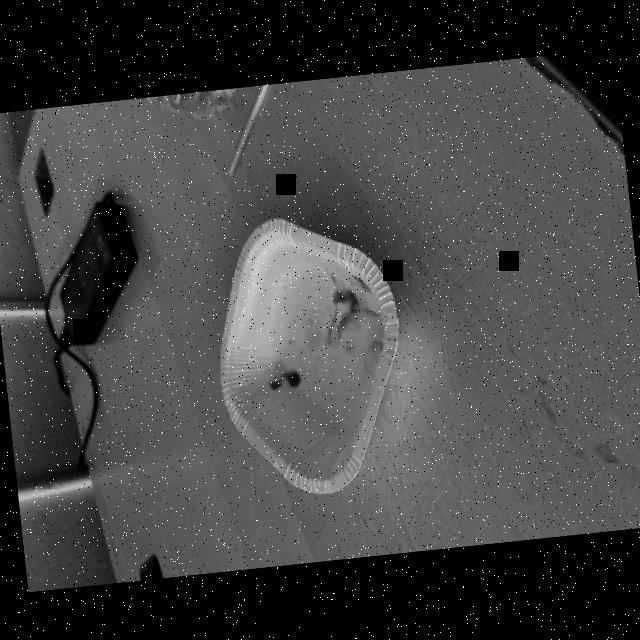cardboard_bowl: (190, 192, 436, 500)
